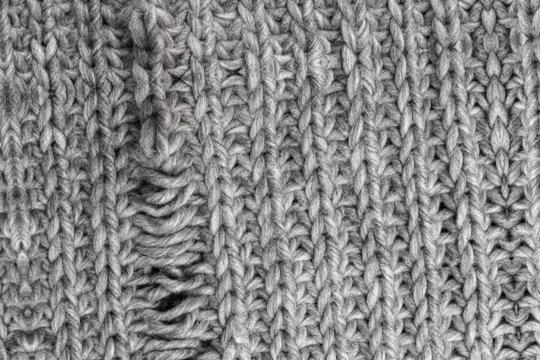slub: (121, 152, 224, 357)
